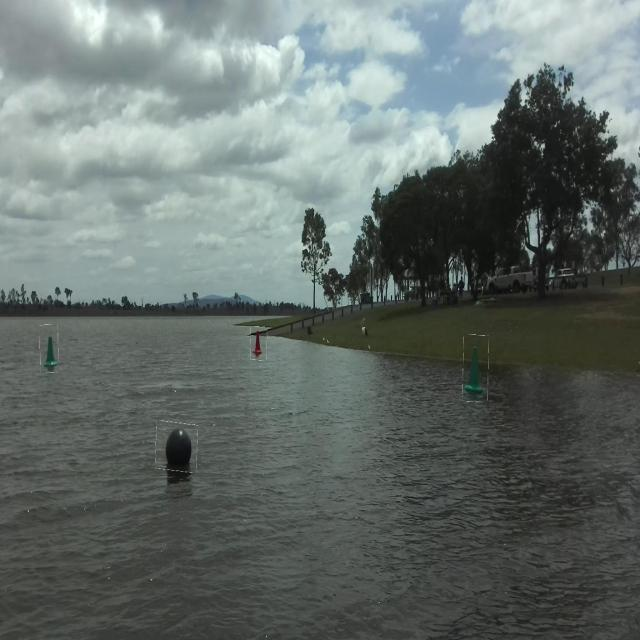Black_Buoy: (158, 420, 201, 487)
Green_Buoy: (458, 333, 491, 398), (41, 316, 60, 382)
Red_Buoy: (253, 337, 267, 363)
